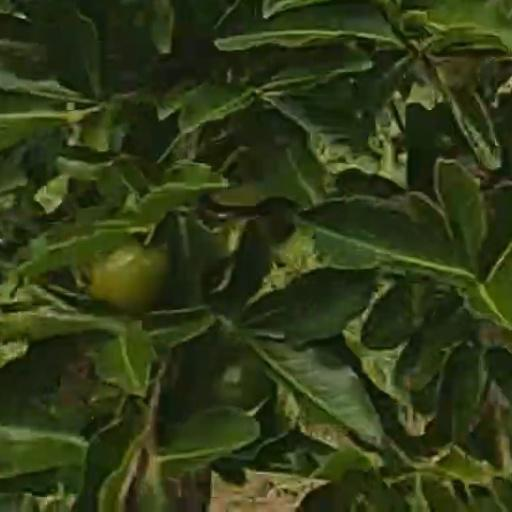acerola: (98, 247, 168, 311)
